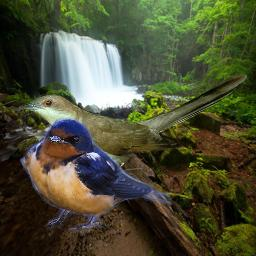Cuckoo: (19, 72, 247, 176)
Swallow: (20, 117, 172, 233)
